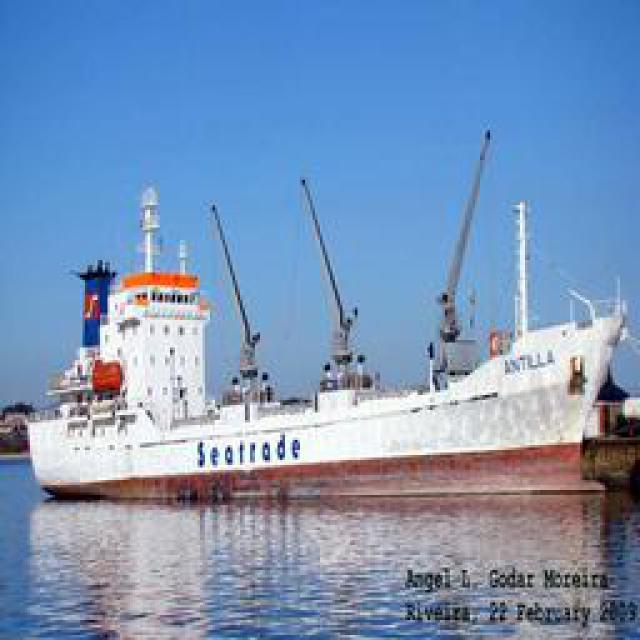Ship: (26, 139, 626, 499)
